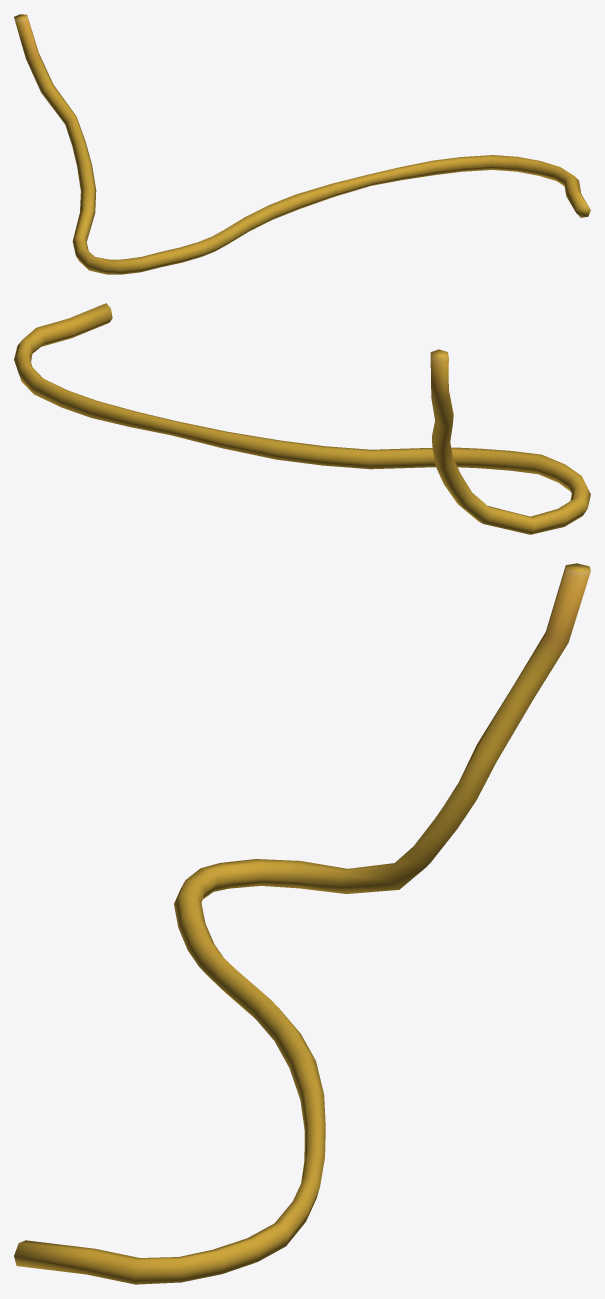
Rendered from pref_sm_city_line01_snow_lv3.fbx.
3 views of the same model, one above another, from view 1: azimuth 30°, elevation 25°; view 2: azimuth 150°, elevation 25°; view 3: azimuth 270°, elevation 25° (orthographic). The views are drawn at different scales.
Visible parts, largest first — view 1: pref_sm_city_line01_snow_lv3; view 2: pref_sm_city_line01_snow_lv3; view 3: pref_sm_city_line01_snow_lv3.
Part boxes in pixels (x1=…): pref_sm_city_line01_snow_lv3: x1=14, y1=14, x2=590, y2=274; pref_sm_city_line01_snow_lv3: x1=14, y1=303, x2=590, y2=534; pref_sm_city_line01_snow_lv3: x1=14, y1=563, x2=590, y2=1284.
Size of the model in its own units: 4.21 by 1.65 by 2.54.
